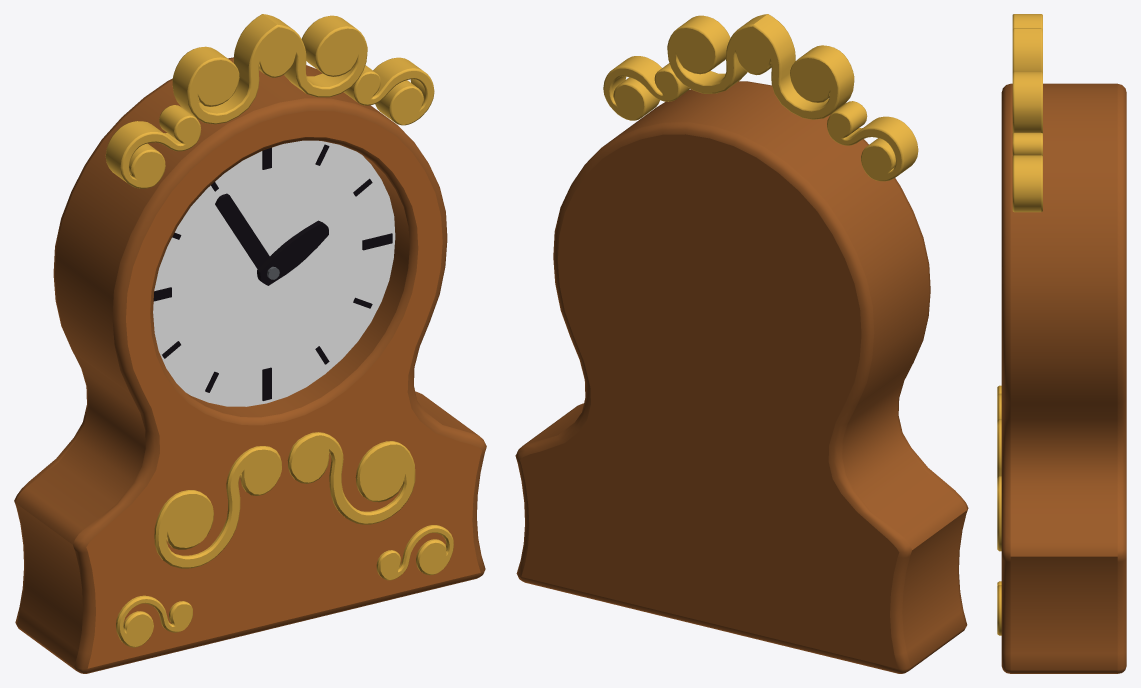
The model's file is Clock2.fbx.
3 views of the same model, side by side, from view 1: azimuth 30°, elevation 25°; view 2: azimuth 150°, elevation 25°; view 3: azimuth 270°, elevation 25° (orthographic). The views are drawn at different scales.
Visible parts, largest first — view 1: Clock2; view 2: Clock2; view 3: Clock2.
Boxes of the visible parts, bbox=[...] form: Clock2: bbox=[14, 14, 486, 673]; Clock2: bbox=[515, 14, 968, 673]; Clock2: bbox=[997, 14, 1126, 673].
Size of the model in its own units: 0.2761 by 0.3831 by 0.0809.
